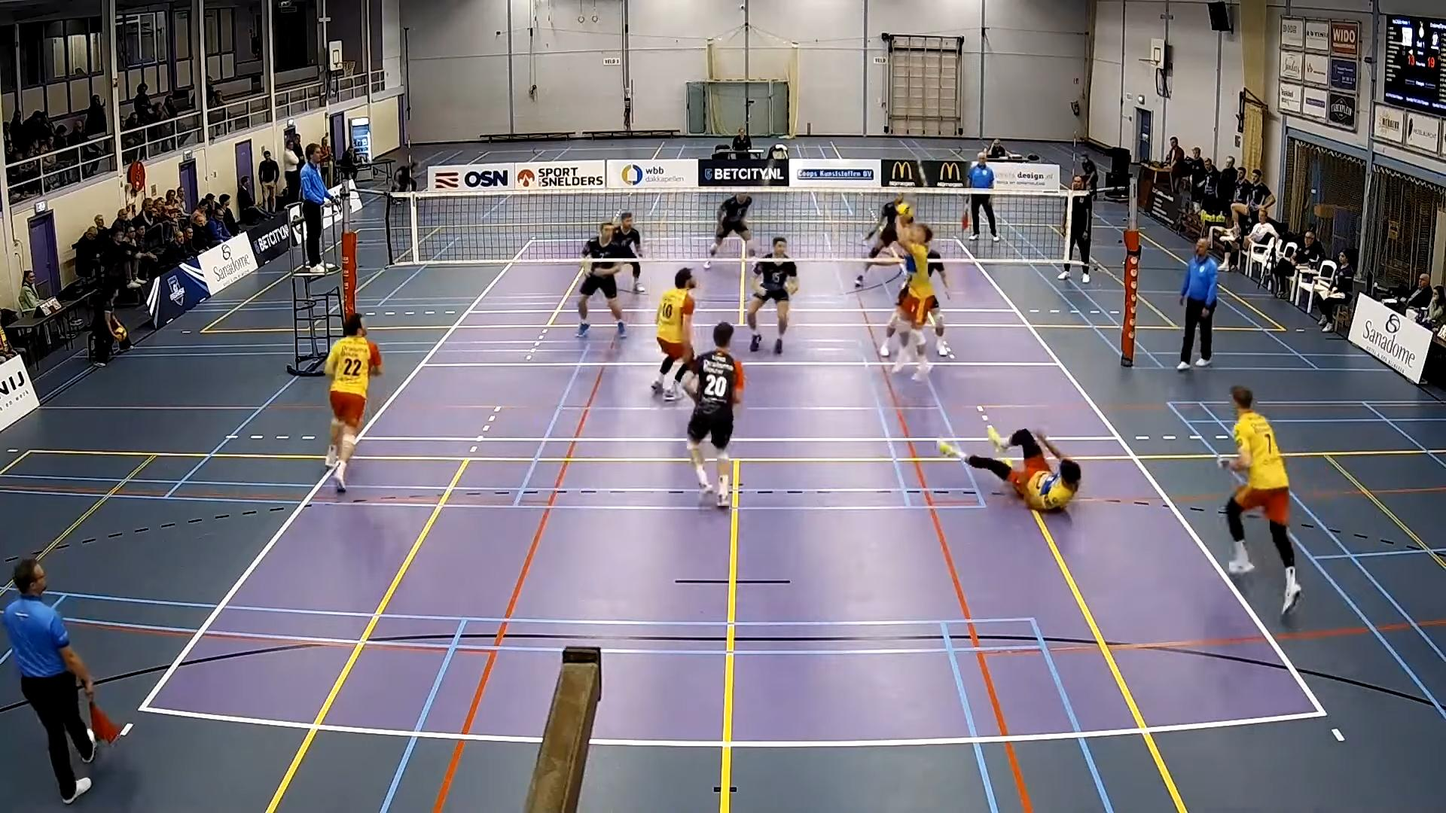alzata: (887, 210, 941, 344)
